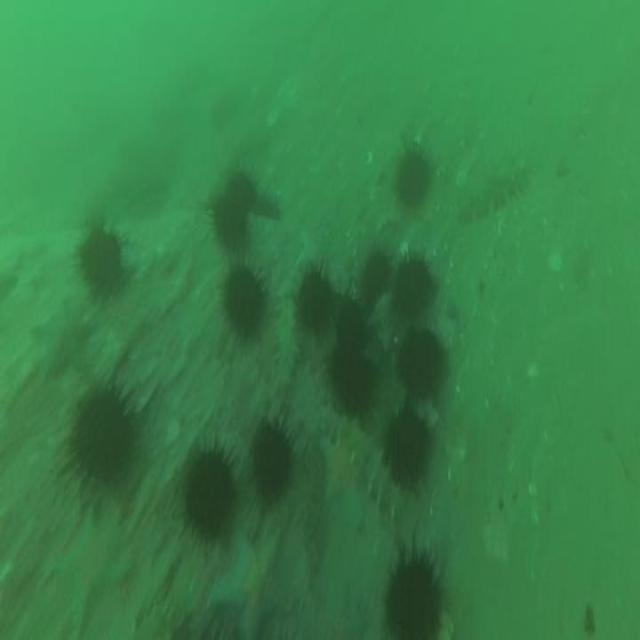echinus: (73, 389, 131, 482), (387, 556, 441, 640), (187, 447, 234, 536), (384, 406, 430, 492), (77, 223, 121, 305), (398, 330, 447, 400), (329, 350, 375, 420), (225, 262, 266, 332), (252, 427, 292, 498), (394, 259, 433, 319), (295, 268, 331, 332), (393, 150, 429, 210), (212, 200, 249, 250), (359, 251, 390, 305), (334, 300, 364, 343), (224, 171, 255, 204)
holothurian: (345, 432, 403, 516), (459, 169, 526, 223), (274, 276, 300, 386)
starfish: (211, 530, 277, 636), (57, 516, 127, 612), (32, 302, 91, 379), (300, 232, 324, 274)
